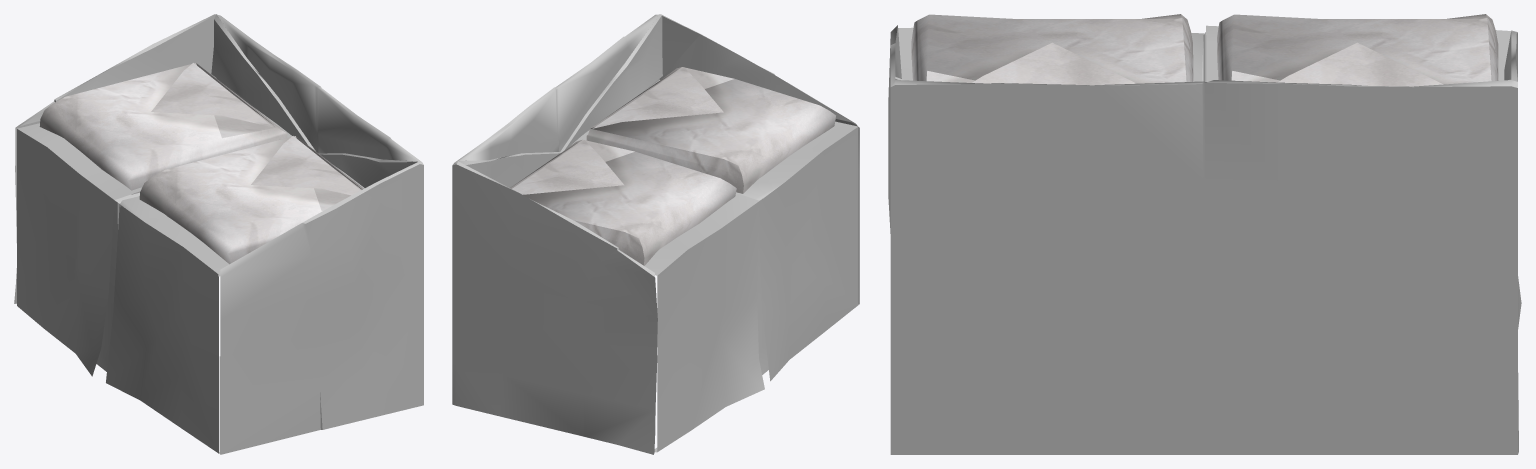
Rendered from AsientoBajo.FBX.
The picture shows the model from 3 angles, left to right: view 1: azimuth 30°, elevation 25°; view 2: azimuth 150°, elevation 25°; view 3: azimuth 270°, elevation 25°; orthographic projection. The views are drawn at different scales.
Parts seen in each view (by area): view 1: sillaCORTA; view 2: sillaCORTA; view 3: sillaCORTA.
Boxes of the visible parts, x1,y1,x2,y2 form: sillaCORTA: [14, 14, 423, 454]; sillaCORTA: [452, 14, 859, 454]; sillaCORTA: [888, 14, 1521, 454].
Bounding box in the file's own units: 115 × 122 × 187.
